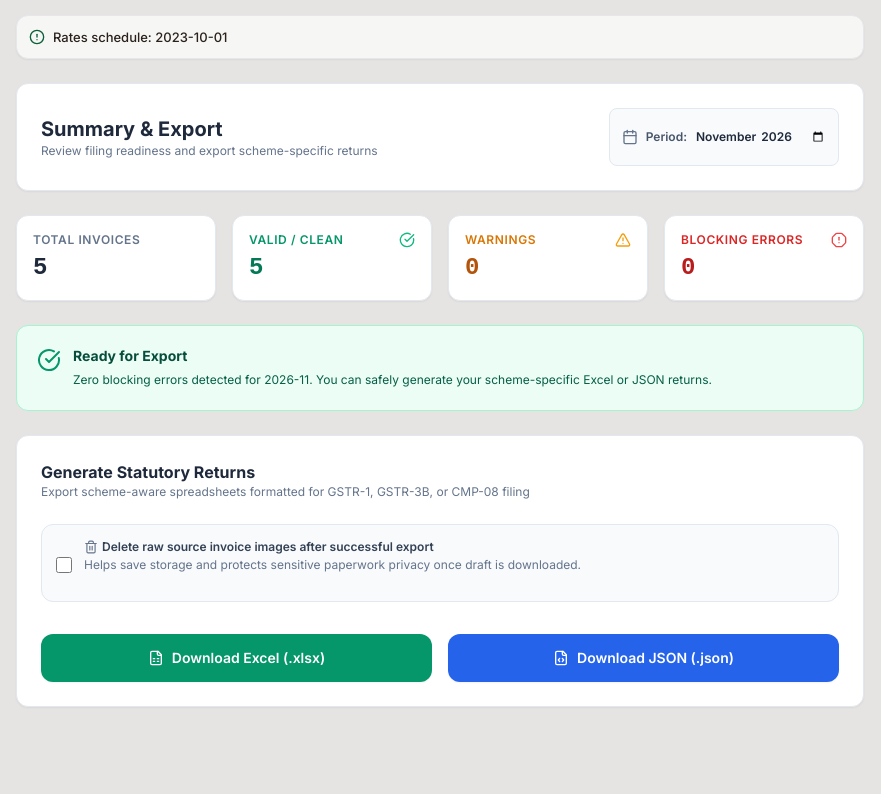
SummaryAndExport Component › enables export buttons and downloads file when zero blocking errors exist
Expected: the heading "Ready for Export" is shown, [73, 347, 187, 364]
Expected: the button "Download JSON (.json)" is enabled, [448, 634, 839, 682]
Click Excel download
Click the button "Download Excel (.xlsx)".
click(236, 658)  # box [41, 634, 432, 682]
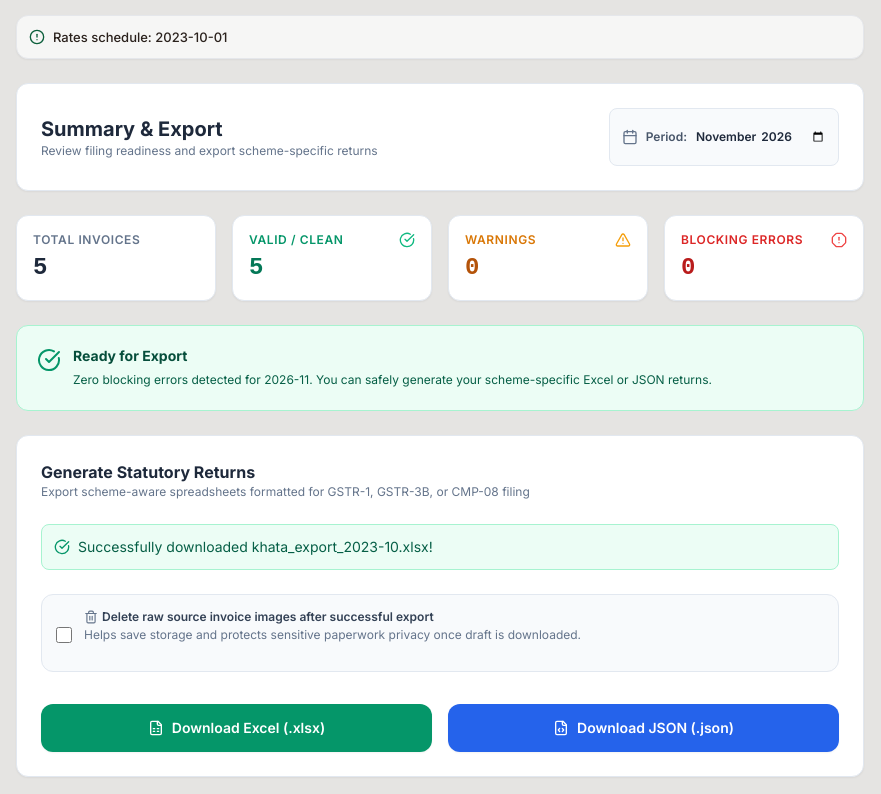
Now the text "Successfully downloaded khata_export_2023-10.xlsx!" is shown, box [78, 536, 433, 556]
